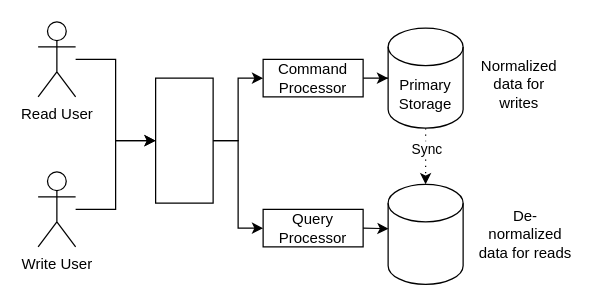
This 598x306 diagram has some shape labels left out. The box of each missing label's shape, as (x1, y1, x2, y2) in pixels:
Application: (154, 77, 213, 203)
Read Storage: (387, 183, 463, 284)
